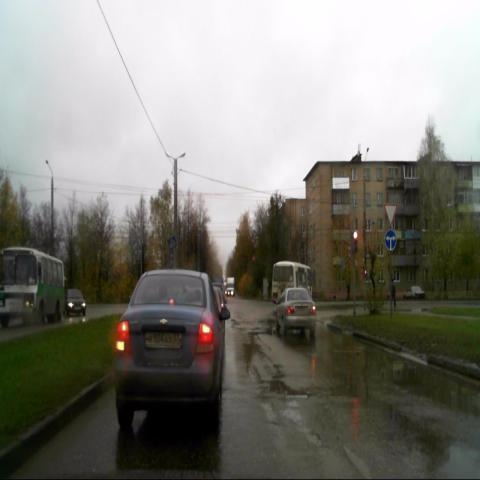4_1_6: (384, 230, 397, 252)
